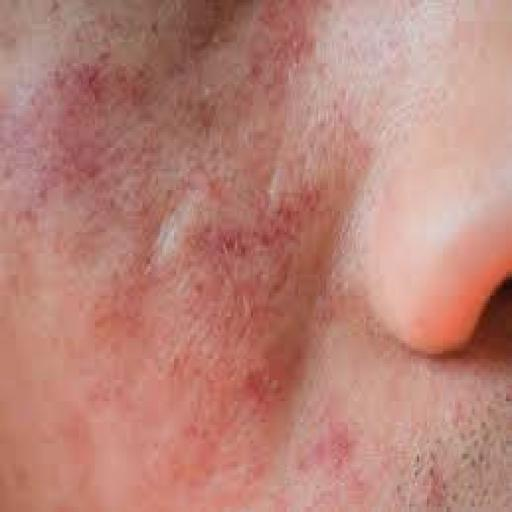Skin_Lesion: (250, 186, 318, 280), (46, 48, 109, 136), (251, 0, 313, 73), (90, 270, 153, 330), (37, 149, 110, 196), (188, 205, 242, 262), (292, 424, 346, 478), (222, 352, 277, 404), (182, 278, 236, 327), (166, 333, 199, 384)
